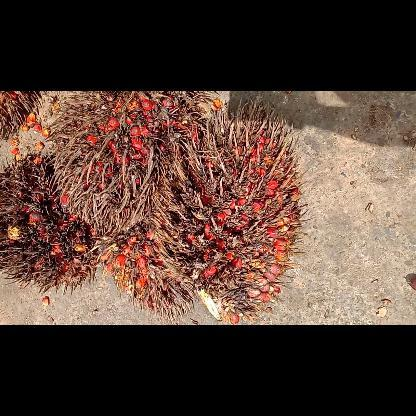Terlalu masak: (145, 98, 312, 324), (44, 91, 228, 243), (0, 148, 104, 296), (90, 222, 200, 324)
